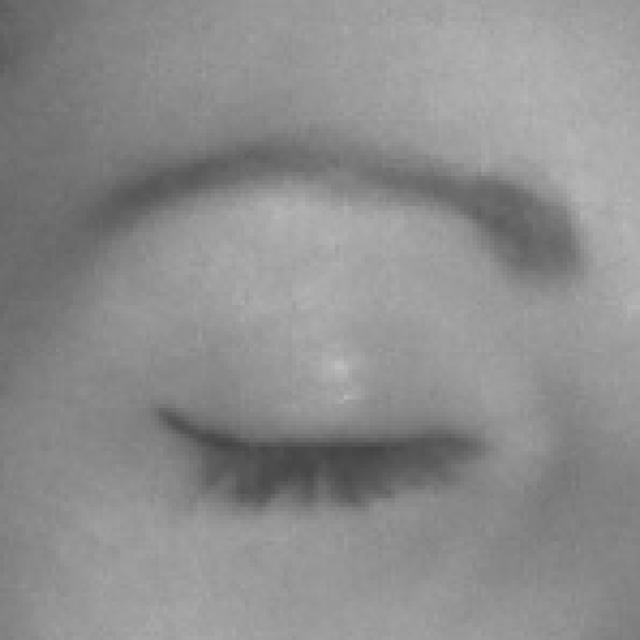close: (25, 81, 622, 597)
